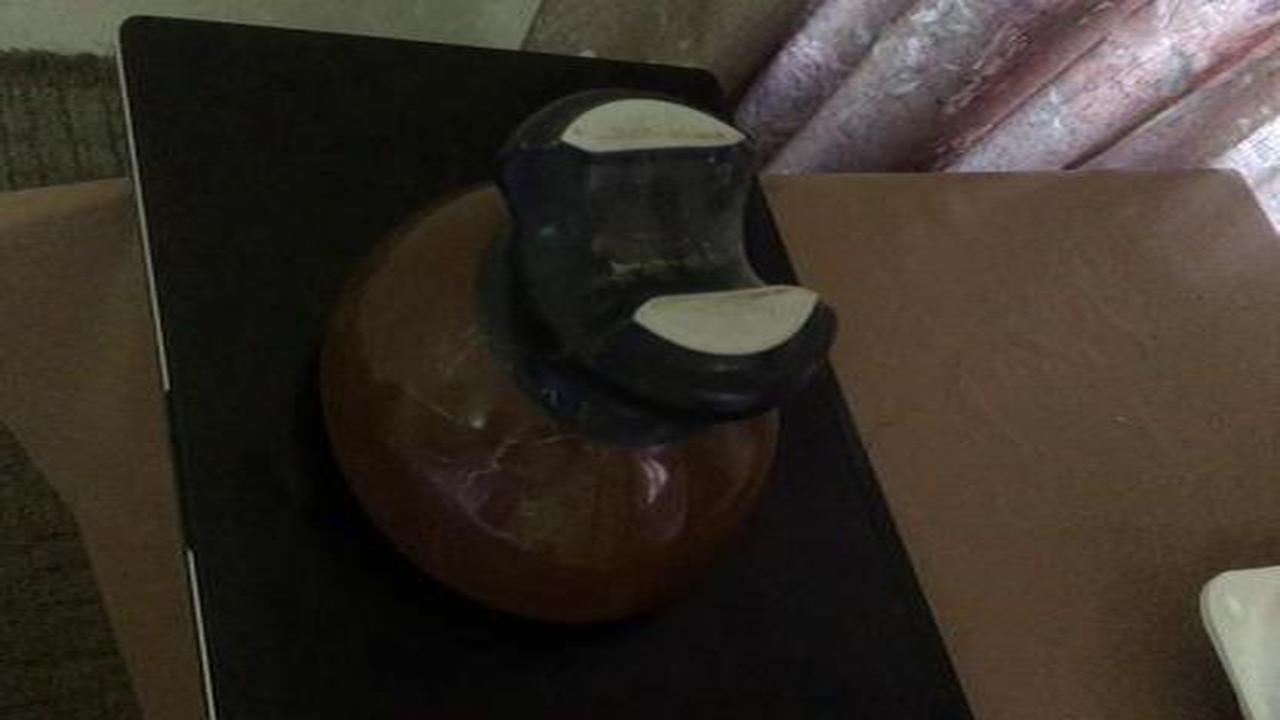insulator_pin: (302, 65, 859, 646)
